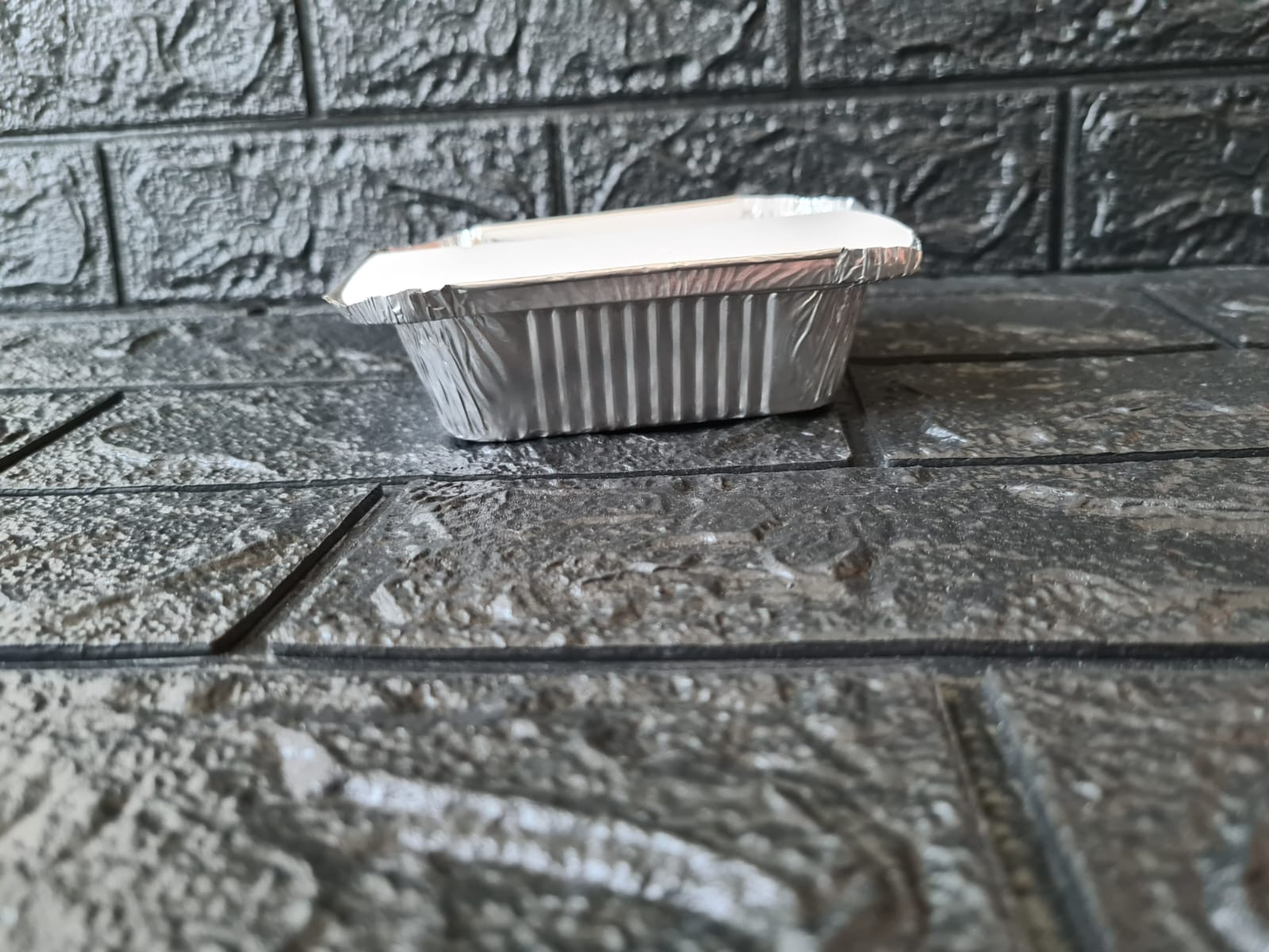Metal: (325, 194, 941, 440)
